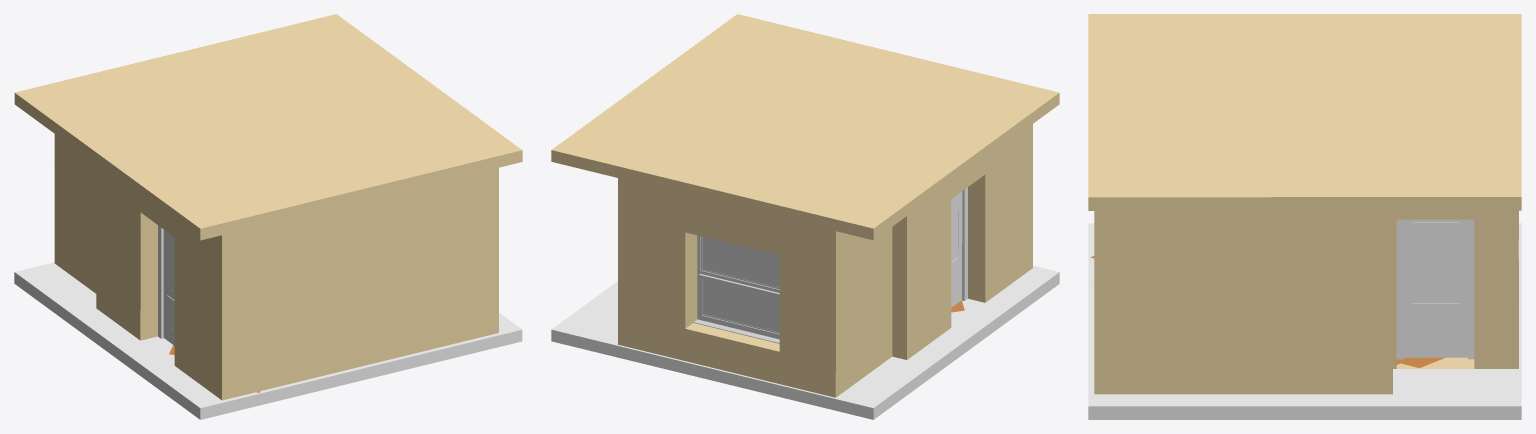
The model's file is FloorPlan15_physics.fbx.
3 renders of one model, left to right at view 1: azimuth 30°, elevation 25°; view 2: azimuth 150°, elevation 25°; view 3: azimuth 270°, elevation 25°, orthographic. The views are drawn at different scales.
Parts seen in each view (by area): view 1: Room.040, Ceiling, Cube.544, Door.003, DoorFrame.003; view 2: Ceiling, Room.040, Cube.544, WindowPane, Window.001, Door.003, DoorFrame.003; view 3: Ceiling, Room.040, Cube.544, Door.002, DoorFrame.002.
Part boxes in pixels (x1,y1,x2,y2): Room.040: (54,134,498,400); Ceiling: (14,14,522,240); Cube.544: (14,262,522,419); Door.003: (163,229,174,345); DoorFrame.003: (158,225,163,338); Ceiling: (551,14,1059,240); Room.040: (618,124,1032,397); Cube.544: (551,266,1059,419); WindowPane: (702,236,779,332); Window.001: (693,235,779,343); Door.003: (951,191,962,307); DoorFrame.003: (962,187,967,300); Ceiling: (1088,14,1521,210); Room.040: (1094,210,1518,394); Cube.544: (1088,223,1521,419); Door.002: (1404,219,1467,357); DoorFrame.002: (1396,219,1474,359).
Size of the model in its own units: 546 by 310 by 546.
